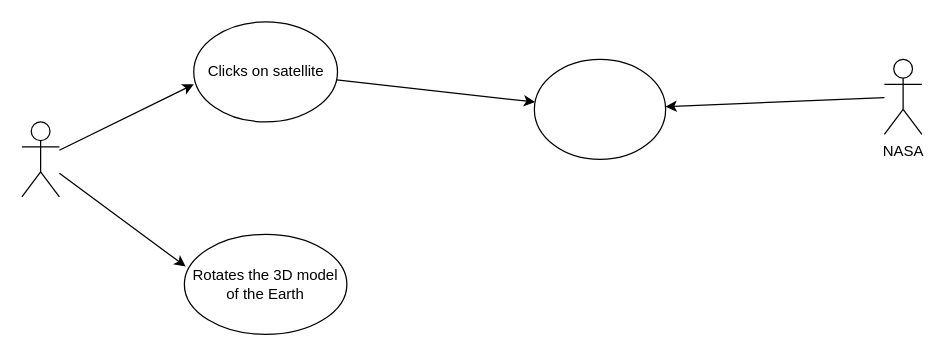
The diagram is 945 pixels wide and 356 high, and some of its shapes have lost their labels. Each missing label, with the centre of its shape:
Display Satellite information: (599,108)
User: (40,159)
